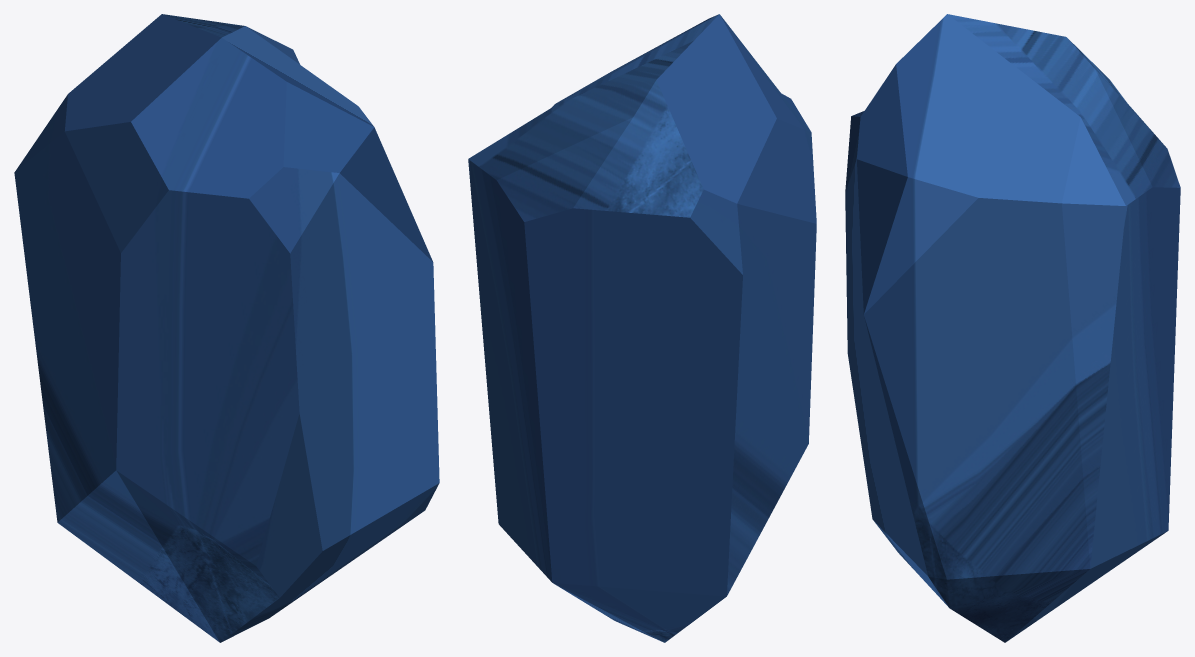
The picture shows the model from 3 angles, left to right: view 1: azimuth 30°, elevation 25°; view 2: azimuth 150°, elevation 25°; view 3: azimuth 270°, elevation 25°; orthographic projection. The views are drawn at different scales.
Visible parts, largest first — view 1: crystal_a2; view 2: crystal_a2; view 3: crystal_a2.
Boxes of the visible parts, box(x1,y1,x2,y2) form: crystal_a2: box(14, 14, 439, 642); crystal_a2: box(468, 14, 816, 642); crystal_a2: box(845, 14, 1180, 642).
Size of the model in its own units: 1.64 by 2.98 by 1.5.
